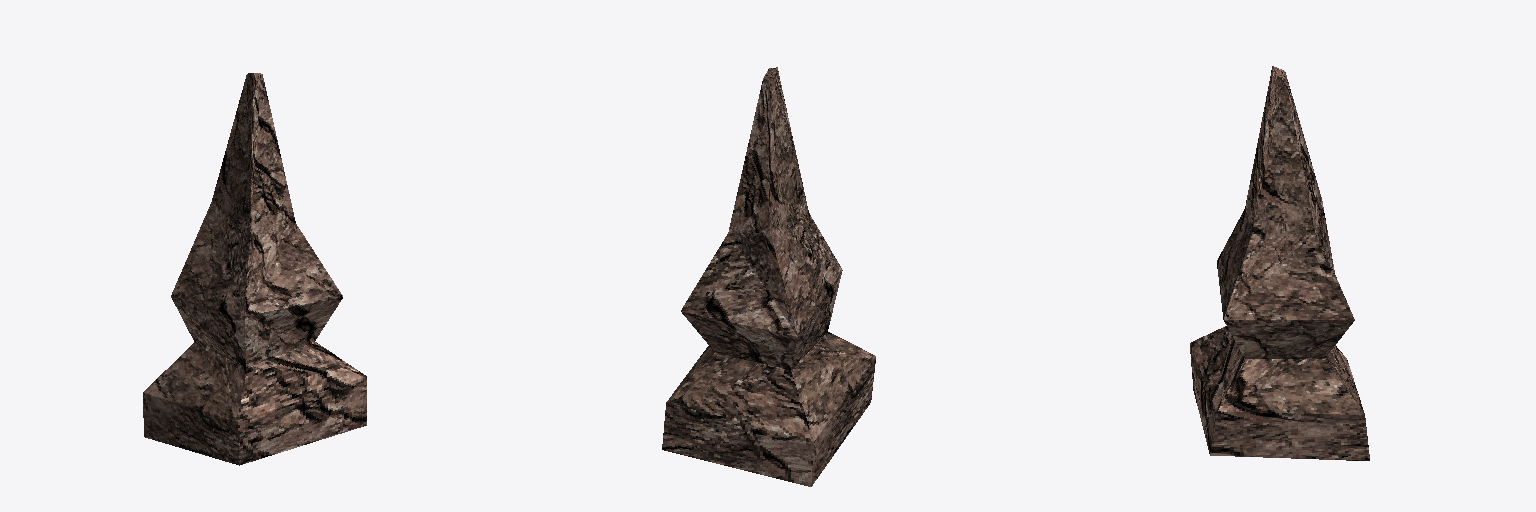
3 views of the same model, side by side, from view 1: azimuth 30°, elevation 25°; view 2: azimuth 150°, elevation 25°; view 3: azimuth 270°, elevation 25° (orthographic).
Visible parts, largest first — view 1: Cylinder009; view 2: Cylinder009; view 3: Cylinder009.
Part boxes in pixels (left/top/right/bottom): Cylinder009: left=143, top=73, right=366, bottom=465; Cylinder009: left=662, top=67, right=875, bottom=486; Cylinder009: left=1190, top=66, right=1369, bottom=460.
Size of the model in its own units: 25.7 by 57.71 by 25.23.
1 materials, 1 textured.